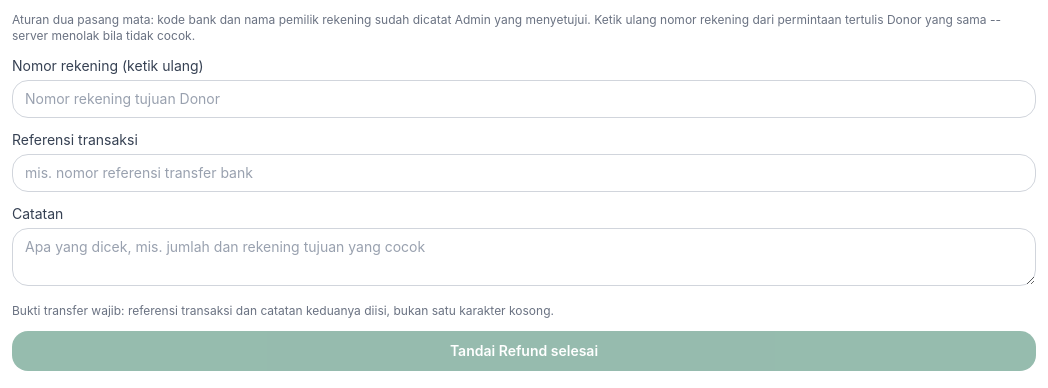
it: AdminRefundCompleteForm › keeps the submit button disabled until every field is filled
Expected: the button "Tandai Refund selesai" is disabled, x1=12 y1=331 x2=1036 y2=371
In the field labelled "Nomor rekening (ketik ulang)": (524, 99) x1=12 y1=80 x2=1036 y2=118, type "1234567890"
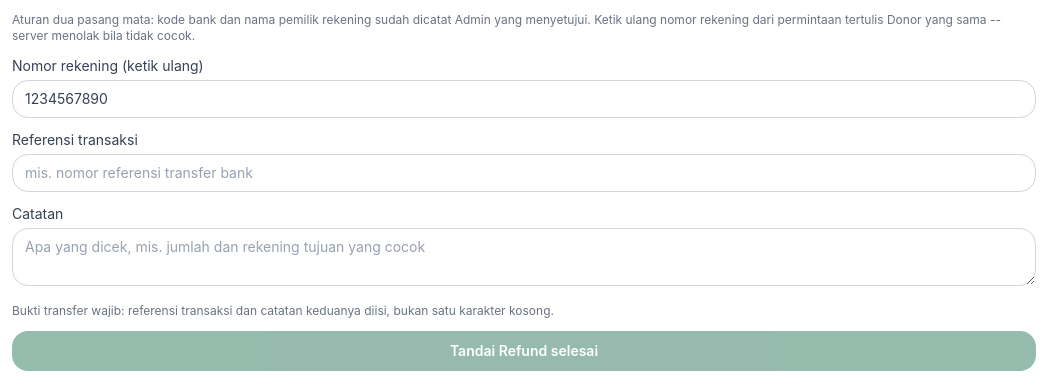
In the field labelled "Referensi transaksi": (524, 173) x1=12 y1=154 x2=1036 y2=192, type "TRX-1"
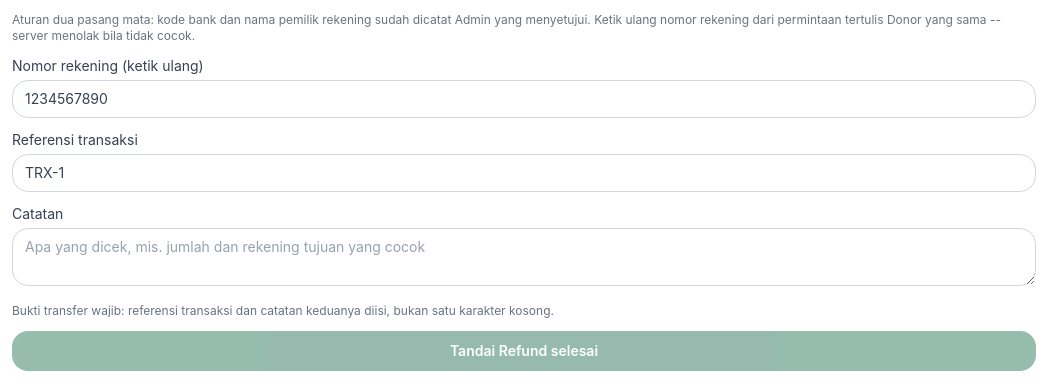
In the text box labelled "Catatan": (524, 257) x1=12 y1=228 x2=1036 y2=286, type "Ditransfer via mobile banking BCA, dicocokkan dengan nama dan rekening Donor."
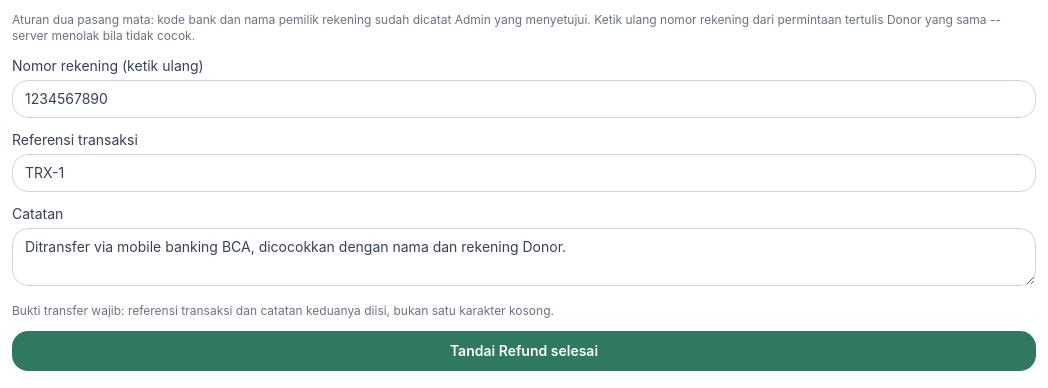
Now the button "Tandai Refund selesai" is enabled, box x1=12 y1=331 x2=1036 y2=371
